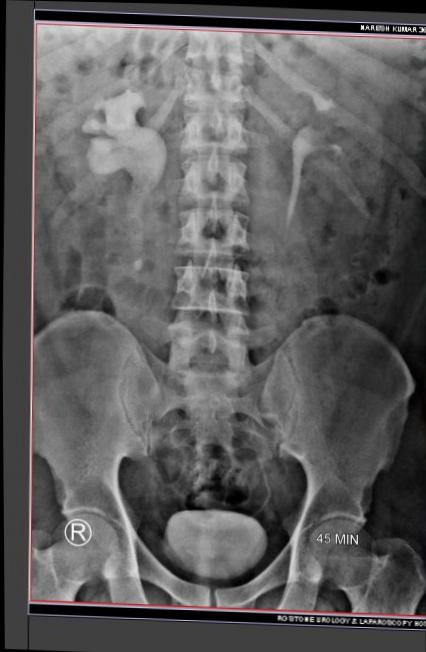bladder: (136, 544, 261, 640)
left kidney: (274, 52, 391, 226)
right kidney: (28, 50, 149, 244)
vertebrae: (163, 98, 236, 156)
